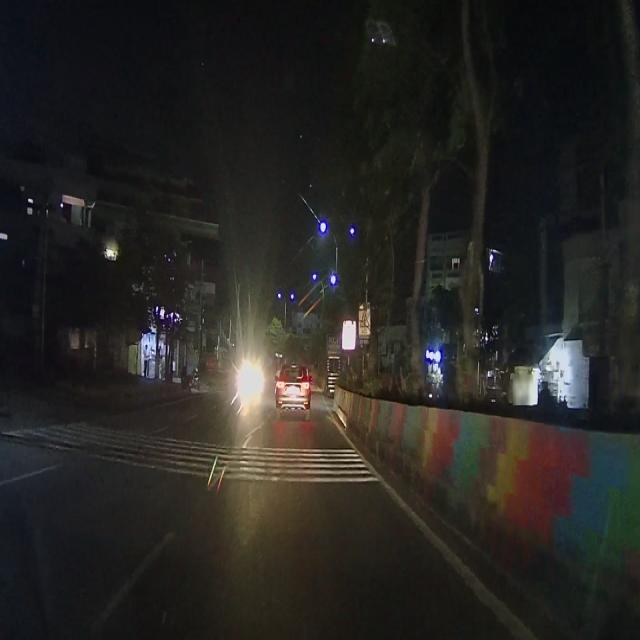gap-in-median: (358, 302, 371, 334)
